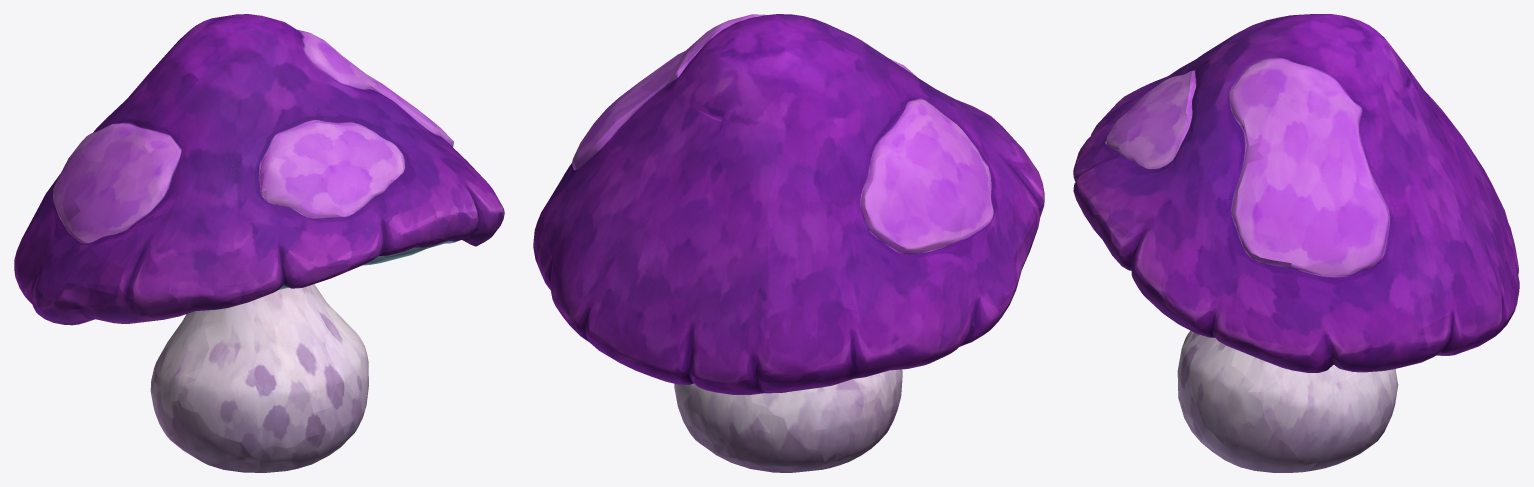
File: amethyst-toadstool.glb
The picture shows the model from 3 angles, left to right: view 1: azimuth 30°, elevation 25°; view 2: azimuth 150°, elevation 25°; view 3: azimuth 270°, elevation 25°; orthographic projection. The views are drawn at different scales.
Visible parts, largest first — view 1: output_unwrapped; view 2: output_unwrapped; view 3: output_unwrapped.
Part boxes in pixels (bbox=[...]): output_unwrapped: bbox=[14, 14, 504, 472]; output_unwrapped: bbox=[533, 14, 1044, 472]; output_unwrapped: bbox=[1073, 14, 1519, 472].
Bounding box in the file's own units: 0.4284 × 0.4 × 0.3786.
1 material, 1 textured.
